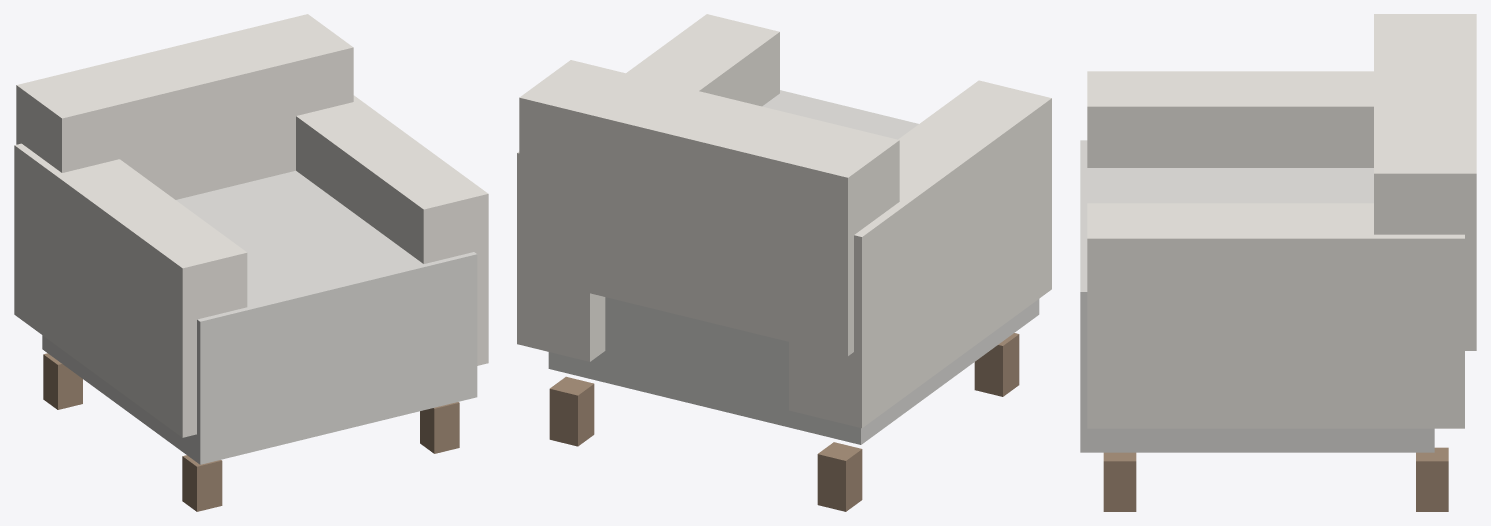
Rendered from lounge-chair.glb.
3 views of the same model, side by side, from view 1: azimuth 30°, elevation 25°; view 2: azimuth 150°, elevation 25°; view 3: azimuth 270°, elevation 25° (orthographic). The views are drawn at different scales.
Visible parts, largest first — view 1: Lounge Chair; view 2: Lounge Chair; view 3: Lounge Chair.
Boxes of the visible parts, x1,y1,x2,y2 form: Lounge Chair: (14,14,488,511); Lounge Chair: (517,14,1051,511); Lounge Chair: (1080,14,1476,511).
Size of the model in its own units: 0.85 by 0.82 by 0.85.
